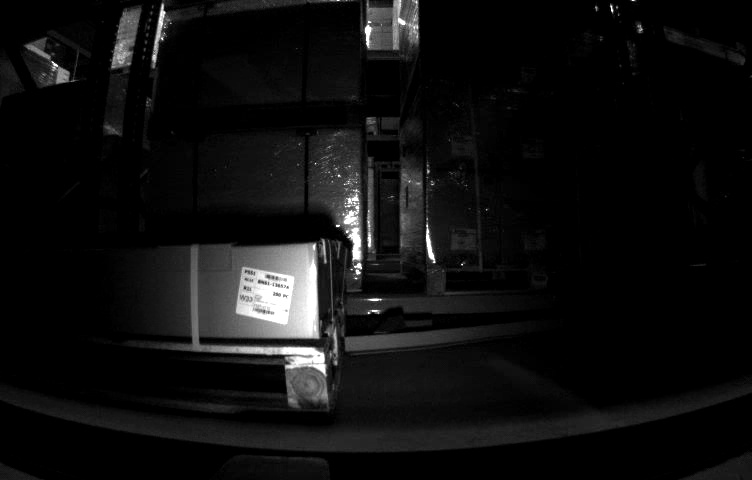True Barcode: (236, 266, 293, 326)
